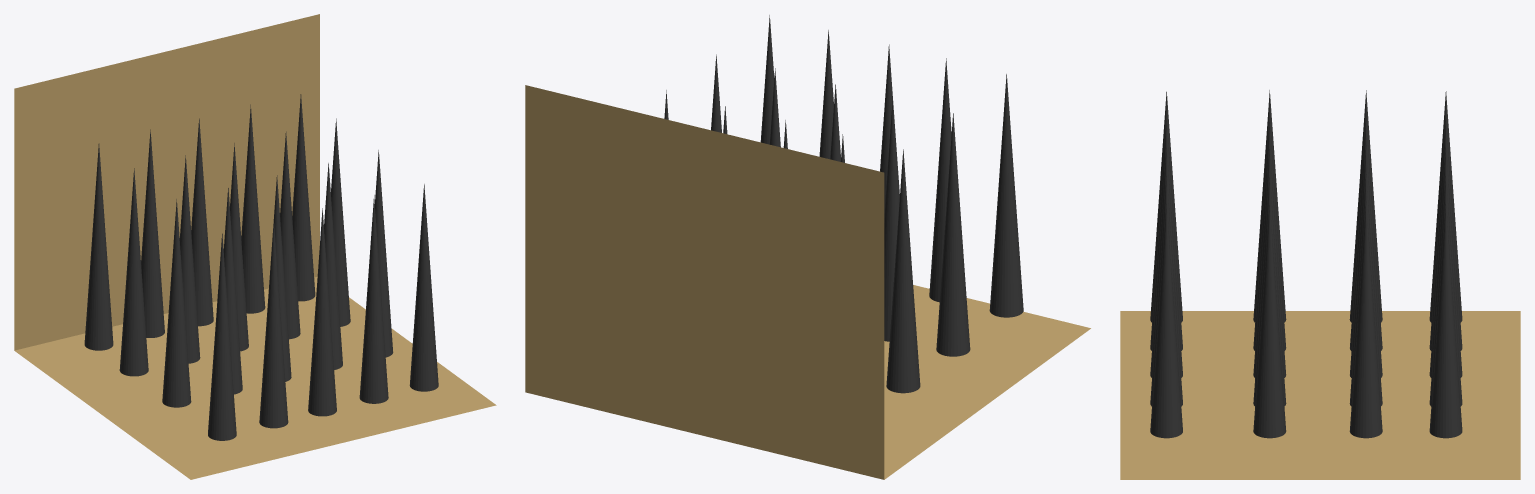
File: Spike_Floor_1Wall.fbx
3 renders of one model, left to right at view 1: azimuth 30°, elevation 25°; view 2: azimuth 150°, elevation 25°; view 3: azimuth 270°, elevation 25°, orthographic. The views are drawn at different scales.
Parts seen in each view (by area): view 1: Plane, Cone.001, Cone.019, Cone, Cone.014, Cone.004, Cone.003, Cone.009, Cone.002, Cone.016, Cone.018, Cone.015 (+9 smaller); view 2: Plane, Cone.014, Cone.009, Cone, Cone.001, Cone.008, Cone.003, Cone.004, Cone.002; view 3: Plane, Cone.010, Cone.005, Cone.015, Cone.004, Cone.019, Cone.012, Cone.007, Cone.009, Cone.014, Cone, Cone.017 (+9 smaller).
Boxes of the visible parts, <box> form: Plane: <box>14,14,496,479</box>; Cone.001: <box>259,219,288,428</box>; Cone.019: <box>84,143,113,350</box>; Cone: <box>208,233,236,440</box>; Cone.014: <box>119,168,148,376</box>; Cone.004: <box>409,184,438,391</box>; Cone.003: <box>359,195,388,403</box>; Cone.009: <box>162,199,191,407</box>; Cone.002: <box>308,208,336,416</box>; Cone.016: <box>241,104,265,313</box>; Cone.018: <box>141,129,164,337</box>; Cone.015: <box>292,94,315,301</box>; Plane: <box>525,85,1090,479</box>; Cone.014: <box>886,149,920,393</box>; Cone.009: <box>936,113,970,356</box>; Cone: <box>989,74,1023,317</box>; Cone.001: <box>929,58,951,302</box>; Cone.008: <box>884,96,899,341</box>; Cone.003: <box>819,30,833,159</box>; Cone.004: <box>760,15,774,144</box>; Cone.002: <box>880,44,892,213</box>; Plane: <box>1120,311,1520,479</box>; Cone.010: <box>1349,202,1382,438</box>; Cone.005: <box>1253,201,1286,438</box>; Cone.015: <box>1429,203,1462,438</box>; Cone.004: <box>1150,203,1182,438</box>; Cone.019: <box>1429,91,1462,322</box>; Cone.012: <box>1350,145,1382,377</box>; Cone.007: <box>1253,145,1286,377</box>; Cone.009: <box>1253,90,1286,322</box>; Cone.014: <box>1349,90,1382,322</box>; Cone: <box>1150,91,1182,322</box>; Cone.017: <box>1429,146,1462,377</box>.
Size of the model in its own units: 257 by 210 by 257.
